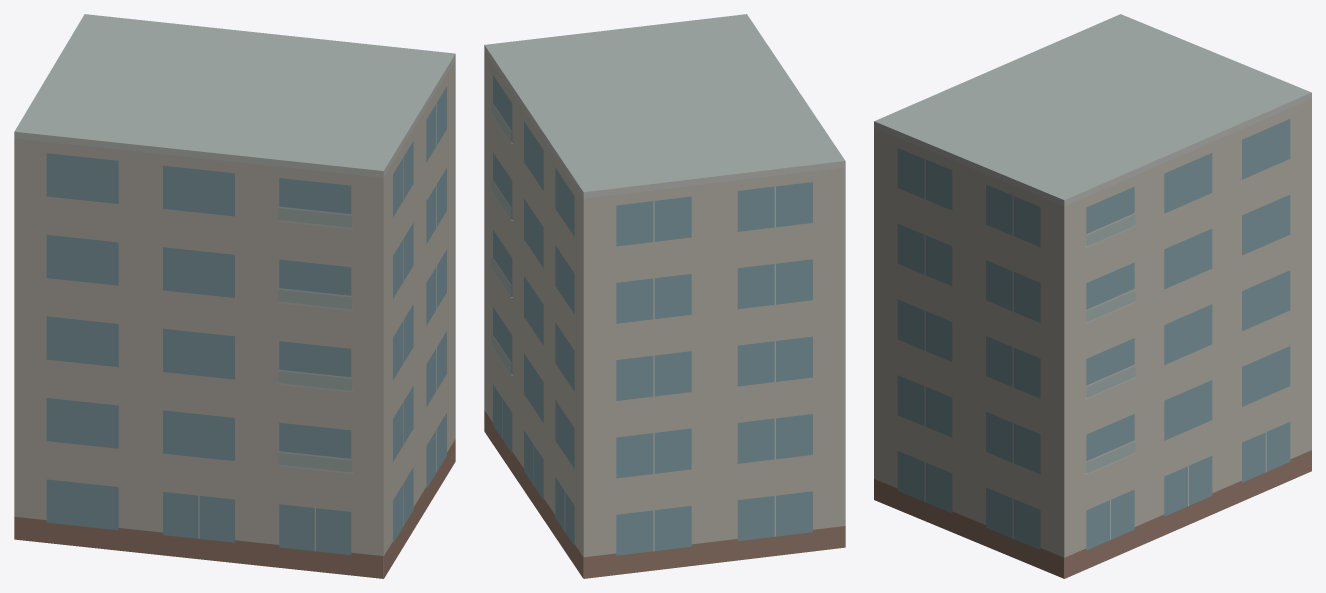
The model's file is survey-upis-32884198.glb.
3 views of the same model, side by side, from view 1: azimuth 30°, elevation 25°; view 2: azimuth 150°, elevation 25°; view 3: azimuth 270°, elevation 25° (orthographic). The views are drawn at different scales.
Parts seen in each view (by area): view 1: survey-upis-32884198.tmp; view 2: survey-upis-32884198.tmp; view 3: survey-upis-32884198.tmp.
Part boxes in pixels (left/top/right/bottom): survey-upis-32884198.tmp: left=14, top=14, right=455, bottom=578; survey-upis-32884198.tmp: left=484, top=14, right=845, bottom=578; survey-upis-32884198.tmp: left=874, top=14, right=1311, bottom=578.
Bounding box in the file's own units: 15.83 × 15 × 15.72.
